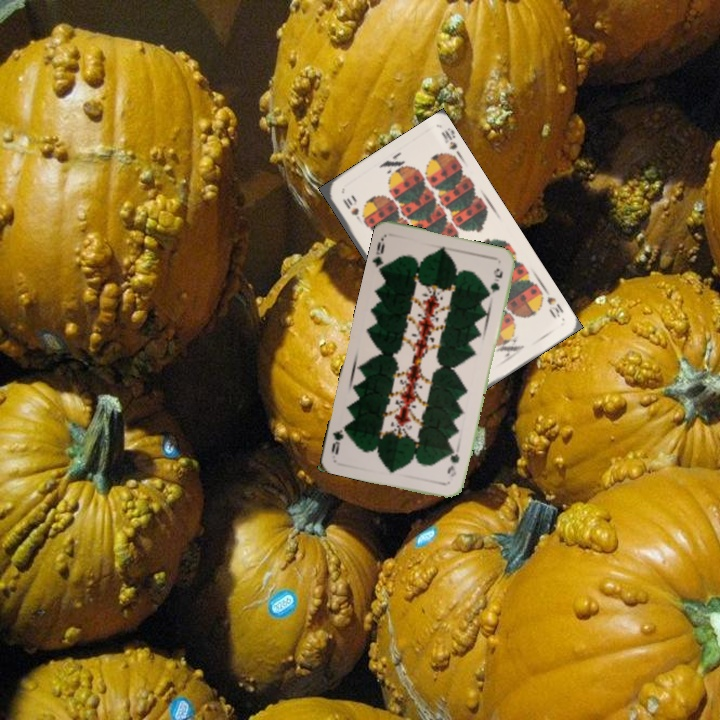G9: (369, 233, 389, 275), (443, 444, 462, 480)
S10: (540, 284, 566, 321), (338, 194, 366, 226)
